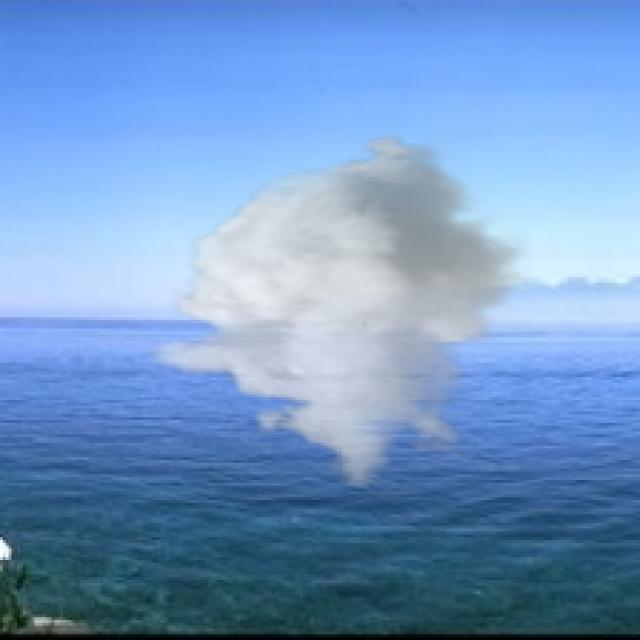smoke: (146, 132, 531, 488)
